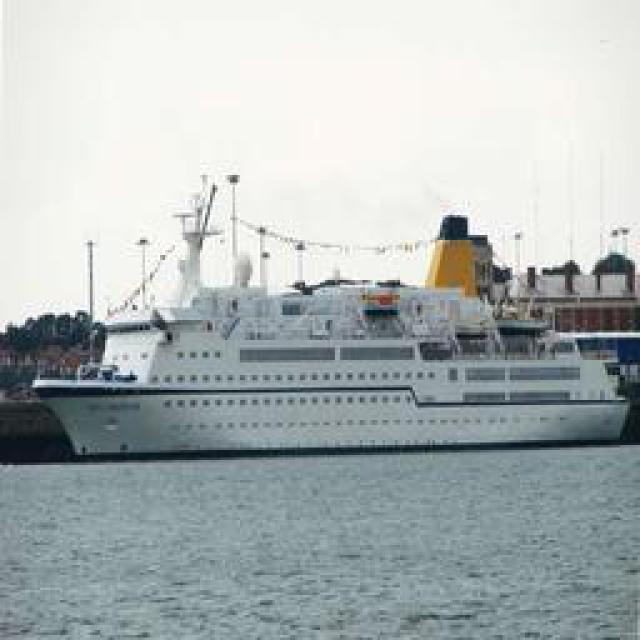Ship: (21, 269, 634, 454)
